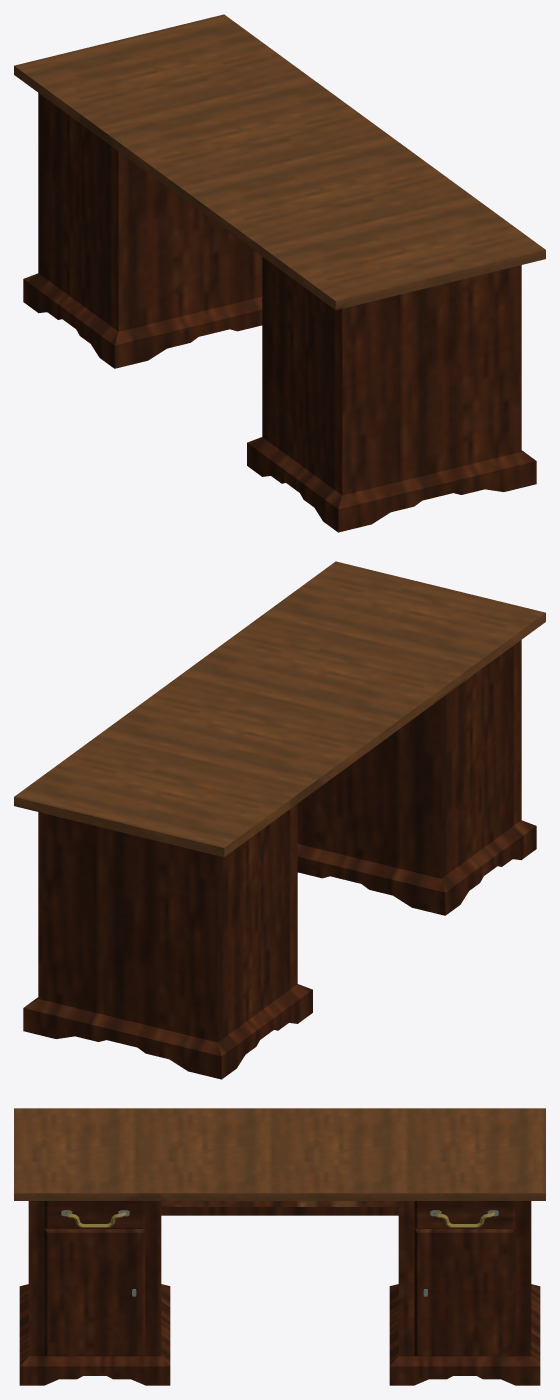
Rendered from Table.fbx.
3 views of the same model, one above another, from view 1: azimuth 30°, elevation 25°; view 2: azimuth 150°, elevation 25°; view 3: azimuth 270°, elevation 25° (orthographic). The views are drawn at different scales.
Visible parts, largest first — view 1: Table; view 2: Table; view 3: Table.
Boxes of the visible parts, x1=… form: Table: x1=14, y1=14, x2=545, y2=532; Table: x1=14, y1=561, x2=545, y2=1079; Table: x1=14, y1=1108, x2=545, y2=1385.
Bounding box in the file's own units: 122 × 129 × 318.
Materials: 1 (1 with a texture image).
